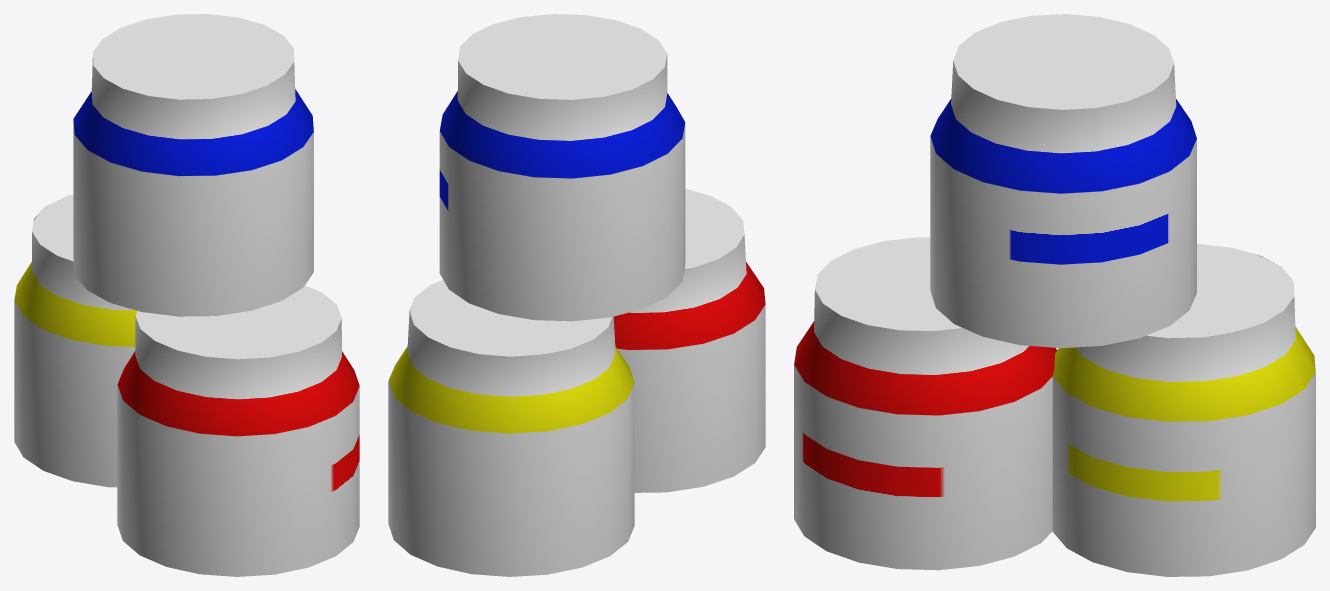
File: Small_paint_bottles.fbx
3 renders of one model, left to right at view 1: azimuth 30°, elevation 25°; view 2: azimuth 150°, elevation 25°; view 3: azimuth 270°, elevation 25°, orthographic. The views are drawn at different scales.
Parts seen in each view (by area): view 1: pCylinder5; view 2: pCylinder5; view 3: pCylinder5.
Part boxes in pixels (box(x1,y1,x2,y2)): pCylinder5: box(14, 14, 359, 576); pCylinder5: box(388, 14, 765, 576); pCylinder5: box(794, 14, 1315, 576).
Size of the model in its own units: 2.16 by 3.82 by 3.91.
